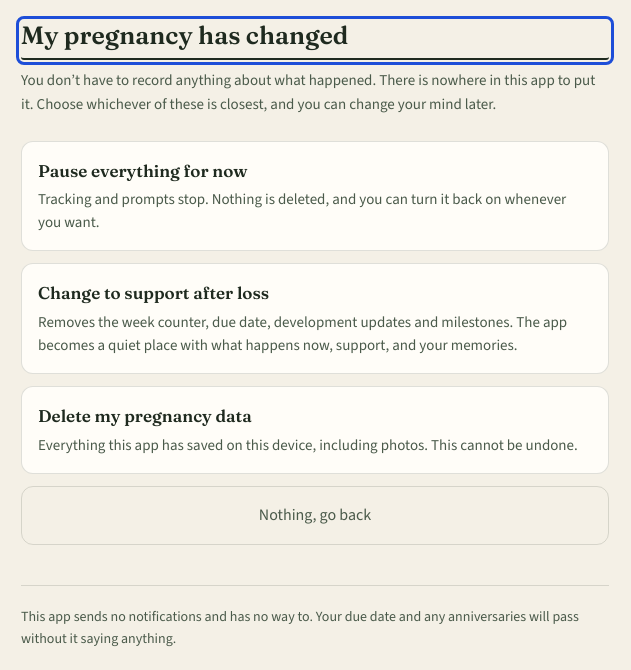
Test: the delete confirmation › names what will be deleted rather than promising "everything"
Step 1. Click the button "Delete my pregnancy data" → (145,416), box [21,386,609,474]
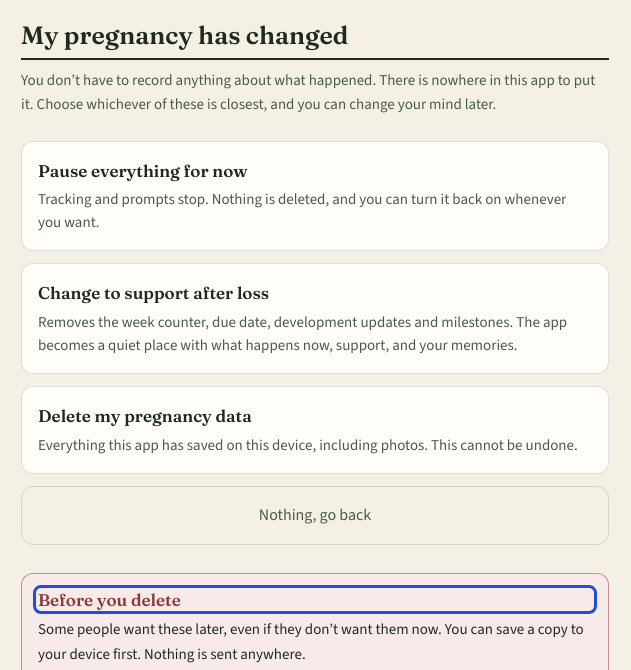
Check: the heading "Before you delete" is shown, box [38,589,181,610]
